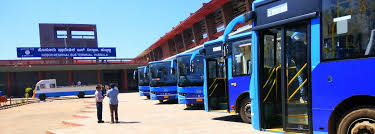Bus: (36, 80, 95, 101)
Chigari: (245, 3, 375, 134), (192, 26, 250, 126), (171, 48, 203, 113), (144, 57, 176, 107), (134, 65, 148, 100)
Human: (91, 85, 104, 122), (108, 85, 120, 120)
